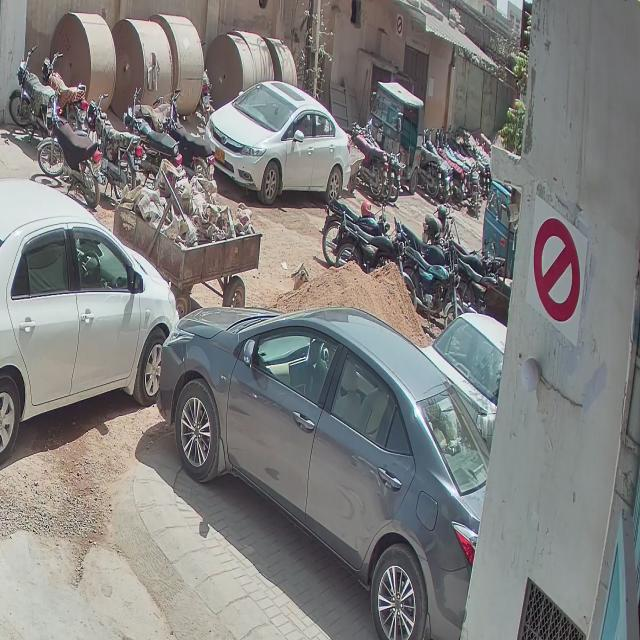bike: (37, 85, 106, 208), (86, 95, 142, 202), (123, 87, 182, 187), (9, 45, 60, 143), (321, 194, 386, 266), (162, 98, 215, 181), (334, 211, 404, 273), (404, 240, 460, 315), (42, 52, 88, 133), (352, 123, 388, 200), (399, 217, 453, 267), (458, 258, 498, 316), (135, 90, 181, 134), (455, 239, 489, 276), (422, 205, 453, 245), (421, 146, 442, 198)
car: (155, 307, 489, 640), (0, 180, 178, 468), (204, 81, 350, 204), (426, 313, 505, 427)
